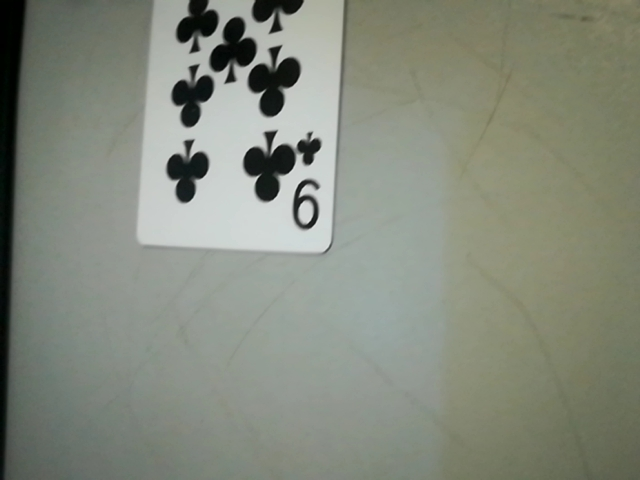mh 9: (284, 129, 336, 245)
